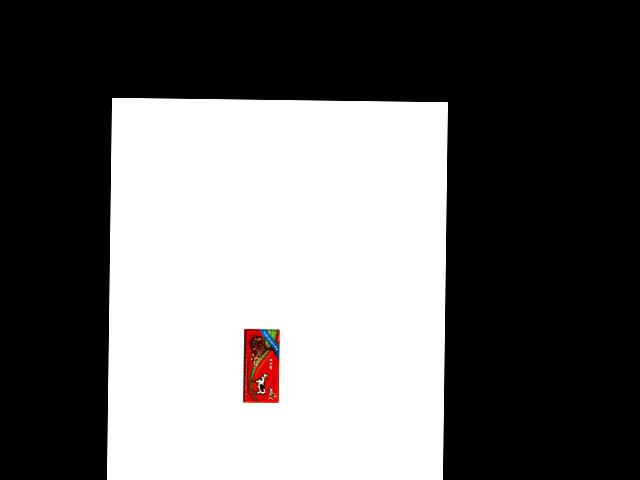chocolate: (244, 329, 280, 406)
